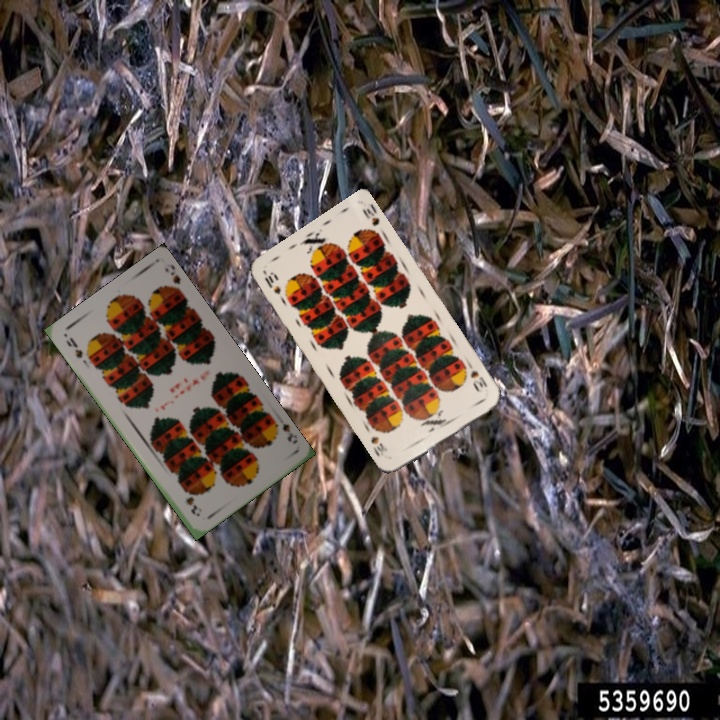S10: (464, 359, 490, 393), (260, 268, 283, 297)
S9: (266, 415, 300, 447), (62, 333, 85, 361)
